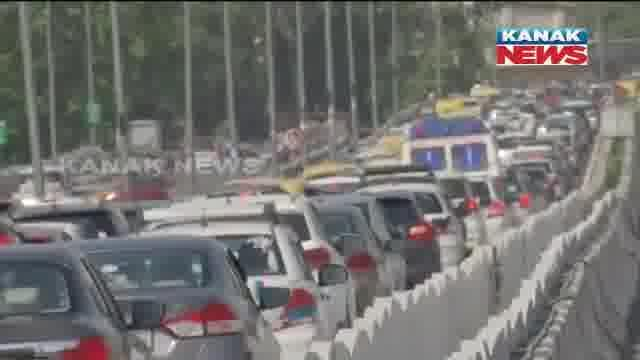AMBULANCE: (396, 118, 498, 164)
